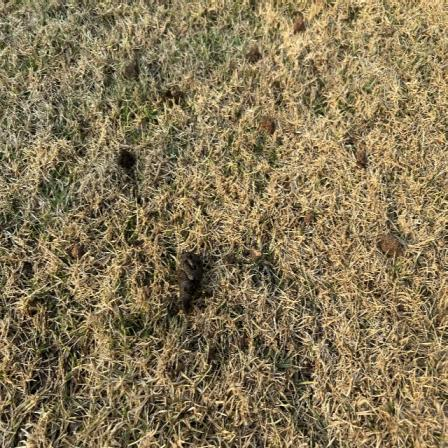dog-poop: (172, 248, 202, 312)
